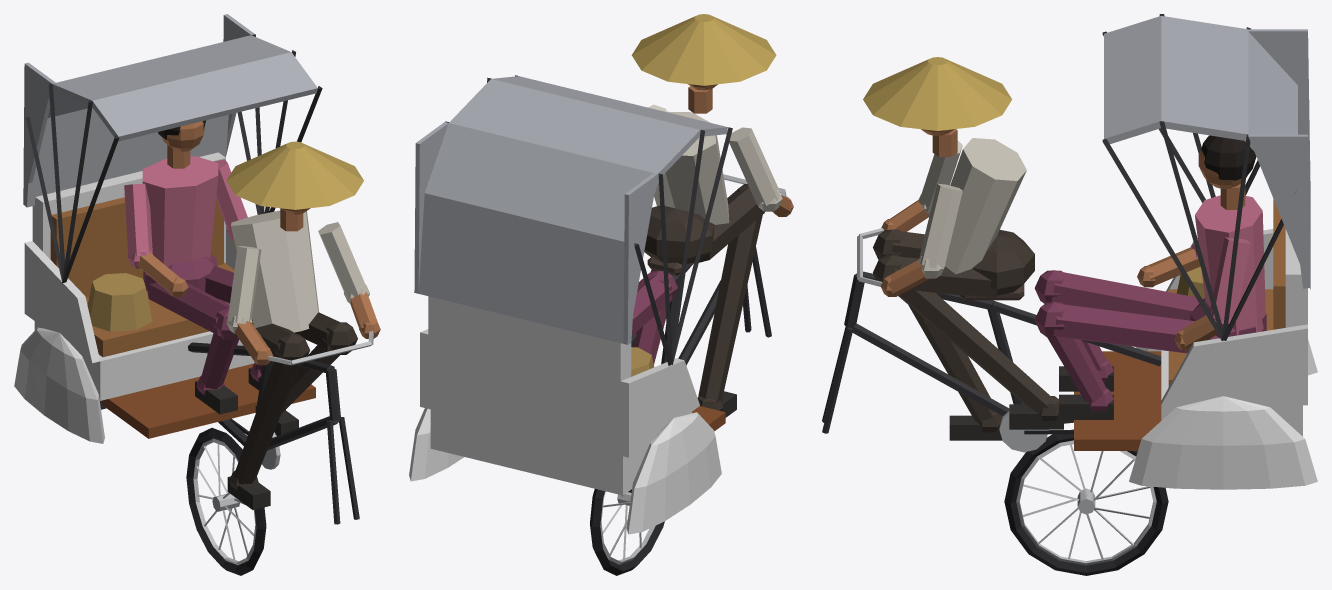
Rendered from samlor.glb.
3 views of the same model, side by side, from view 1: azimuth 30°, elevation 25°; view 2: azimuth 150°, elevation 25°; view 3: azimuth 270°, elevation 25° (orthographic). The views are drawn at different scales.
Parts seen in each view (by area): view 1: body, paint, wheel0; view 2: body, paint, wheel0; view 3: body, paint, wheel0.
Boxes of the visible parts, <box> form: body: <box>23,14,380,524</box>; paint: <box>14,152,254,443</box>; wheel0: <box>186,428,266,575</box>; body: <box>414,14,793,492</box>; paint: <box>409,296,721,534</box>; wheel0: <box>590,489,664,575</box>; body: <box>822,14,1310,452</box>; paint: <box>1129,229,1317,489</box>; wheel0: <box>1004,429,1168,575</box>.
Size of the model in its own units: 1.19 by 2.28 by 1.99.
